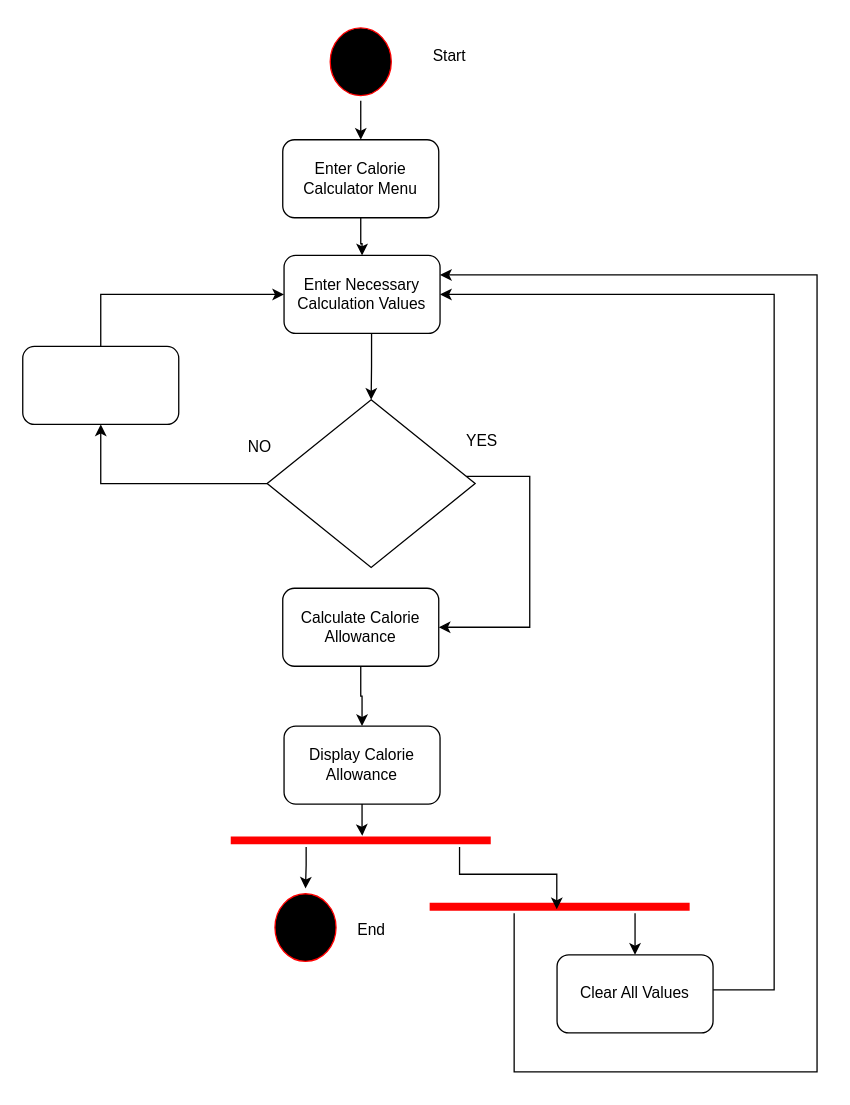
The diagram is 850 pixels wide and 1105 high, and some of its shapes have lost their labels. Here are the shapes that lost their labels. From the top down, the box of each, then its label:
(21, 345, 179, 424): Display "Invalid Values" Message
(266, 398, 475, 567): Are all values valid?
